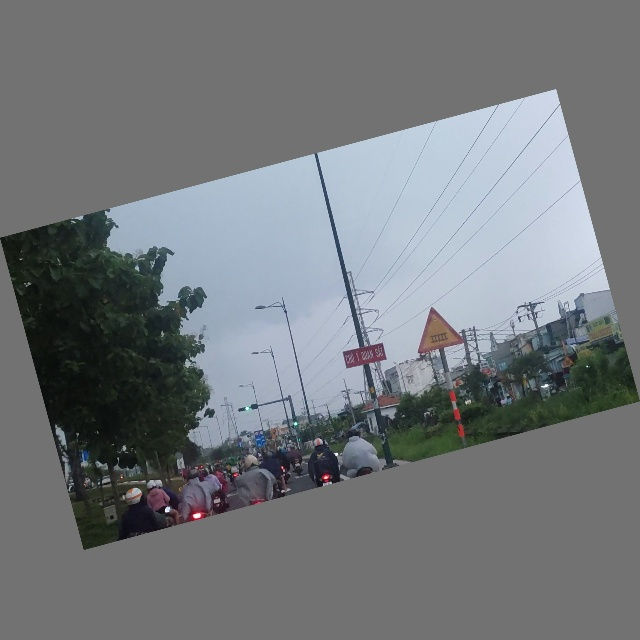W.210: (407, 302, 466, 357)
